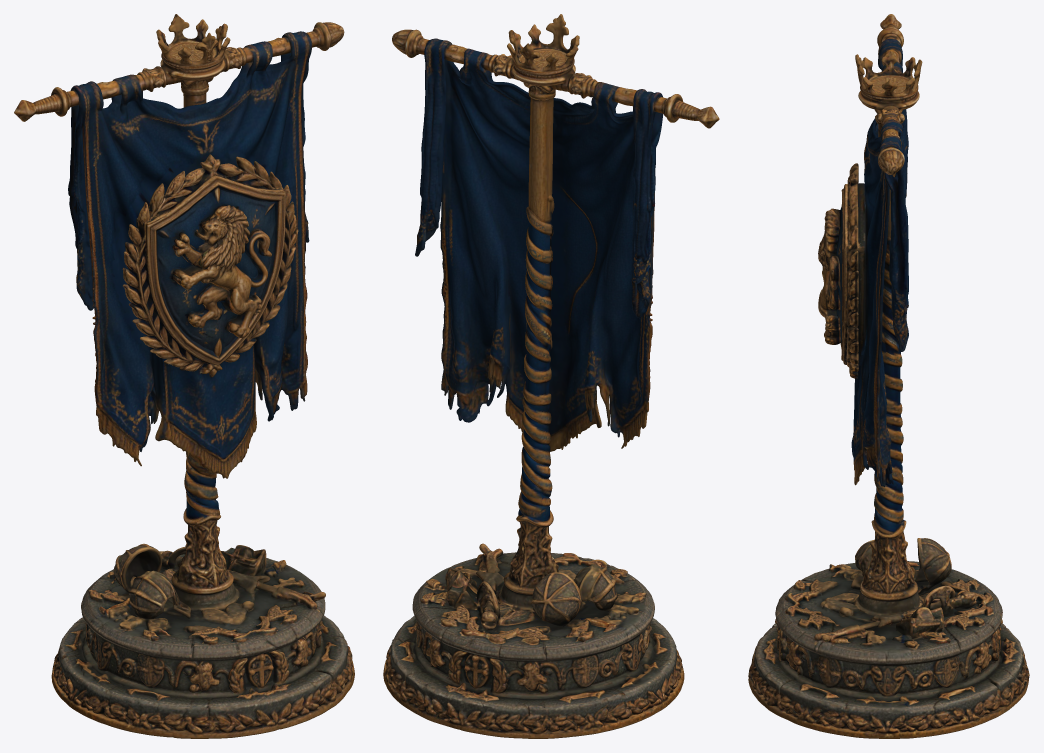
File: Армия без генерала люди.glb
3 renders of one model, left to right at view 1: azimuth 30°, elevation 25°; view 2: azimuth 150°, elevation 25°; view 3: azimuth 270°, elevation 25°, orthographic. The views are drawn at different scales.
Parts seen in each view (by area): view 1: tripo_node_ea51be38-a76d-4573-a2a9-82c2432d758e; view 2: tripo_node_ea51be38-a76d-4573-a2a9-82c2432d758e; view 3: tripo_node_ea51be38-a76d-4573-a2a9-82c2432d758e.
Boxes of the visible parts, box(x1,y1,x2,y2) form: tripo_node_ea51be38-a76d-4573-a2a9-82c2432d758e: box(14, 14, 354, 738); tripo_node_ea51be38-a76d-4573-a2a9-82c2432d758e: box(383, 14, 719, 738); tripo_node_ea51be38-a76d-4573-a2a9-82c2432d758e: box(748, 14, 1029, 738).
Size of the model in its own units: 0.5234 by 1 by 0.4111.
1 material, 1 textured.
